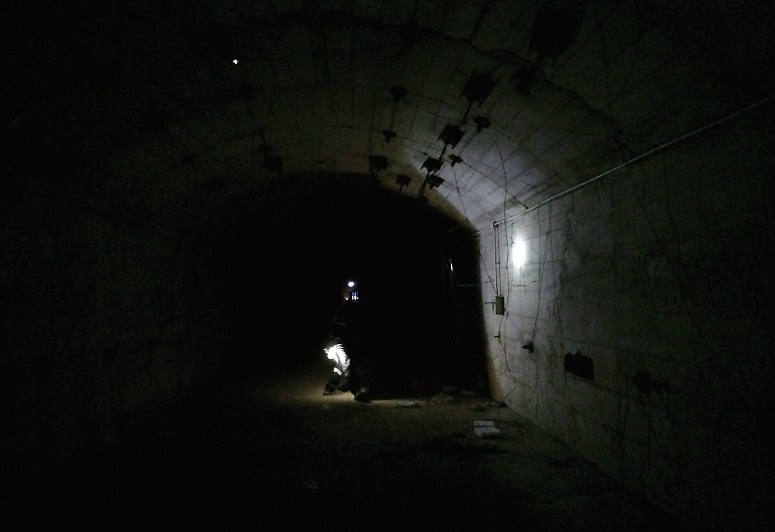person: (313, 282, 368, 405)
